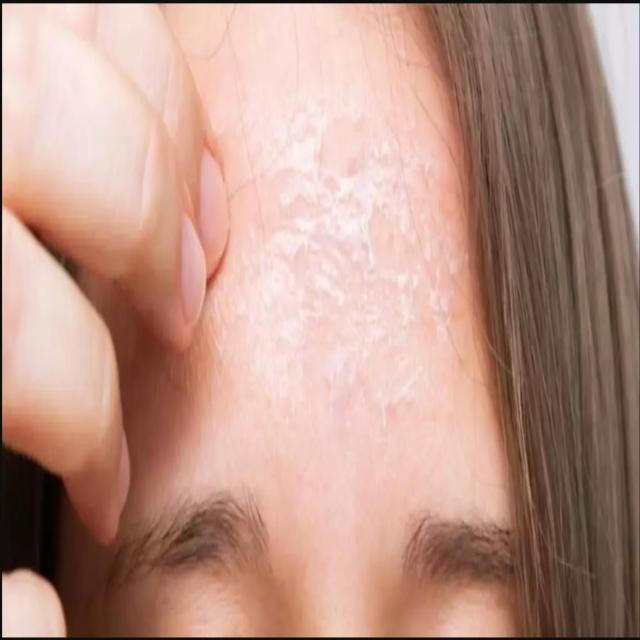Dry-Skin: (260, 140, 308, 262), (312, 144, 377, 233), (427, 244, 478, 336), (344, 216, 391, 314), (386, 147, 428, 239)
